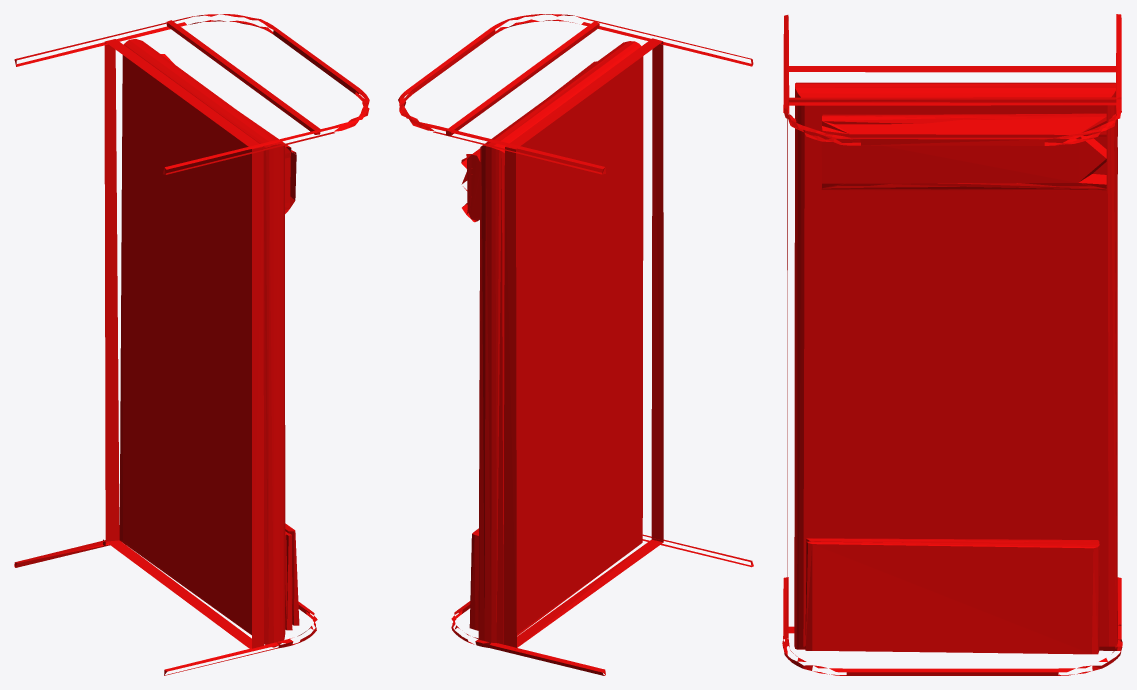
3 views of the same model, side by side, from view 1: azimuth 30°, elevation 25°; view 2: azimuth 150°, elevation 25°; view 3: azimuth 270°, elevation 25° (orthographic). The views are drawn at different scales.
Visible parts, largest first — view 1: Renderer Node; view 2: Renderer Node; view 3: Renderer Node.
Boxes of the visible parts, x1,y1,x2,y2 form: Renderer Node: (14,14,369,675); Renderer Node: (398,14,753,675); Renderer Node: (782,14,1122,675).
Size of the model in its own units: 0.3822 by 0.8103 by 0.4375.
Materials: 1 (1 with a texture image).
